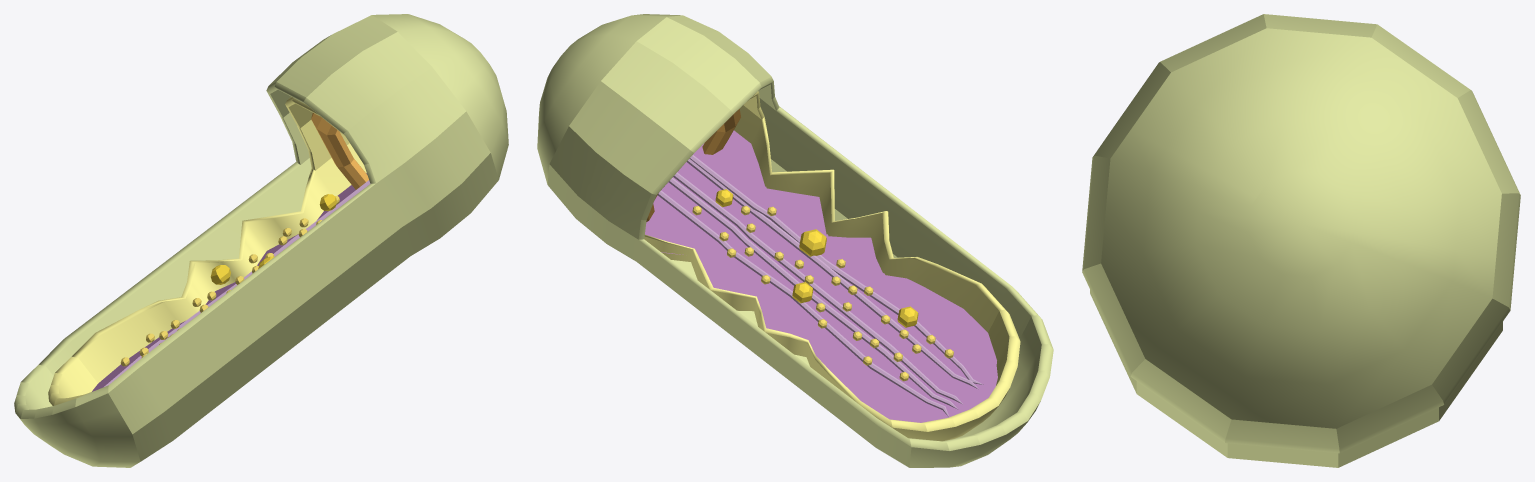
Rendered from Mitochondria Combine no text.fbx.
The picture shows the model from 3 angles, left to right: view 1: azimuth 30°, elevation 25°; view 2: azimuth 150°, elevation 25°; view 3: azimuth 270°, elevation 25°; orthographic projection. The views are drawn at different scales.
Visible parts, largest first — view 1: Mitochindria; view 2: Mitochindria; view 3: Mitochindria.
Boxes of the visible parts, box(x1,y1,x2,y2) form: Mitochindria: box(14, 14, 508, 467); Mitochindria: box(537, 14, 1053, 467); Mitochindria: box(1082, 14, 1520, 467).
Size of the model in its own units: 4.52 by 3.35 by 1.93.
